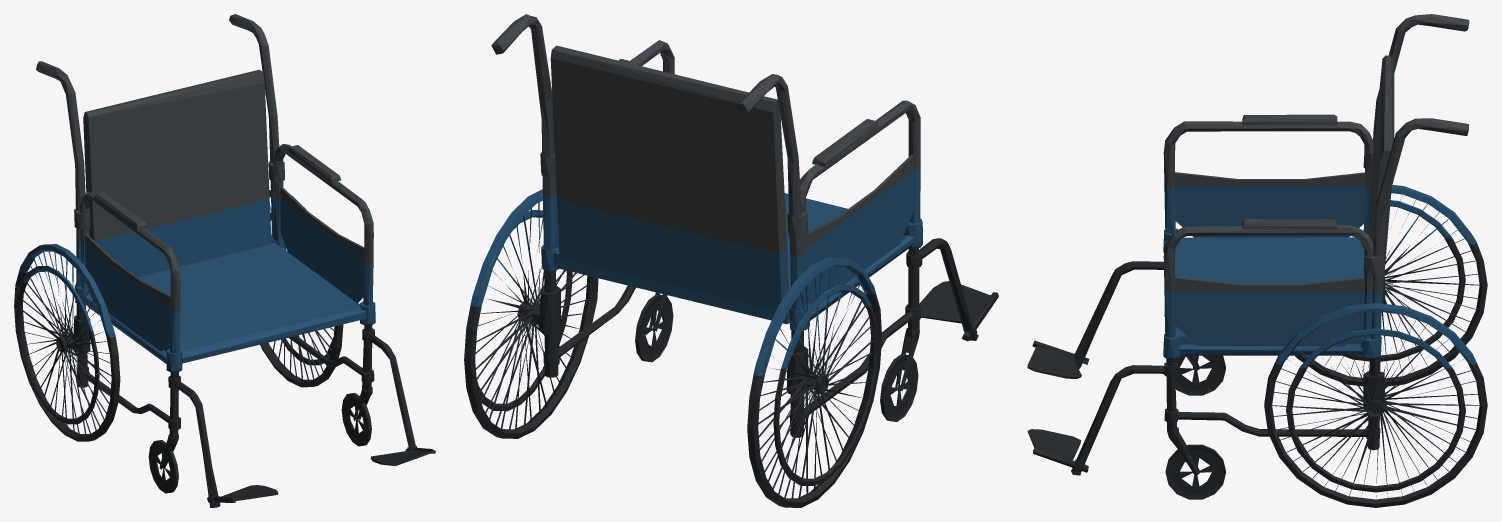
File: hp_wheelchair.glb
3 renders of one model, left to right at view 1: azimuth 30°, elevation 25°; view 2: azimuth 150°, elevation 25°; view 3: azimuth 270°, elevation 25°, orthographic. The views are drawn at different scales.
Visible parts, largest first — view 1: Wheel_chair; view 2: Wheel_chair; view 3: Wheel_chair.
Part boxes in pixels (x1,y1,x2,y2): Wheel_chair: (14, 14, 435, 507); Wheel_chair: (464, 14, 998, 507); Wheel_chair: (1027, 14, 1487, 507).
Size of the model in its own units: 0.707 by 0.9496 by 1.04.
